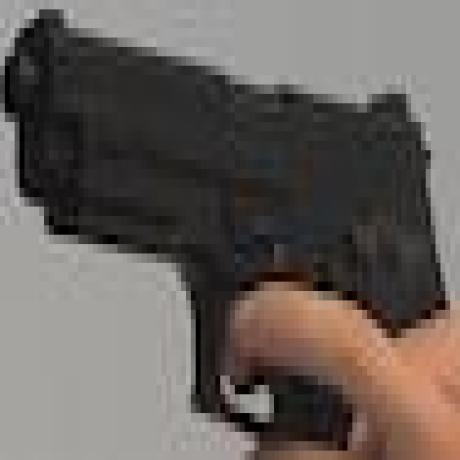weapon: (6, 5, 450, 460)
